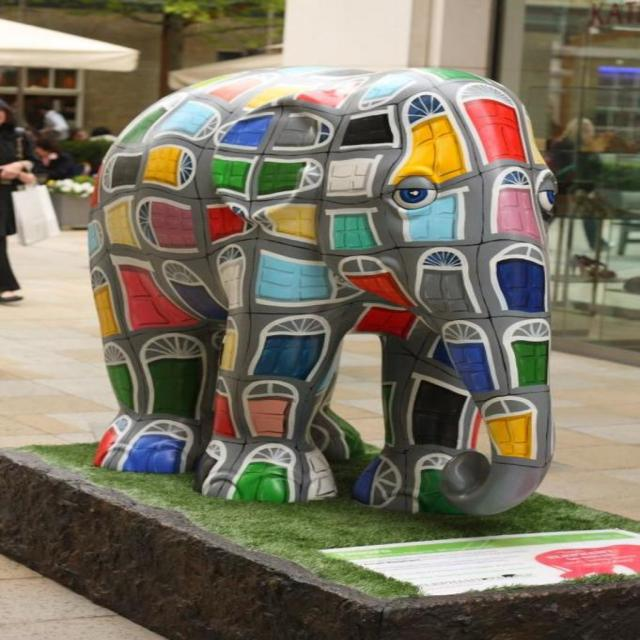elephant: (92, 50, 548, 516)
